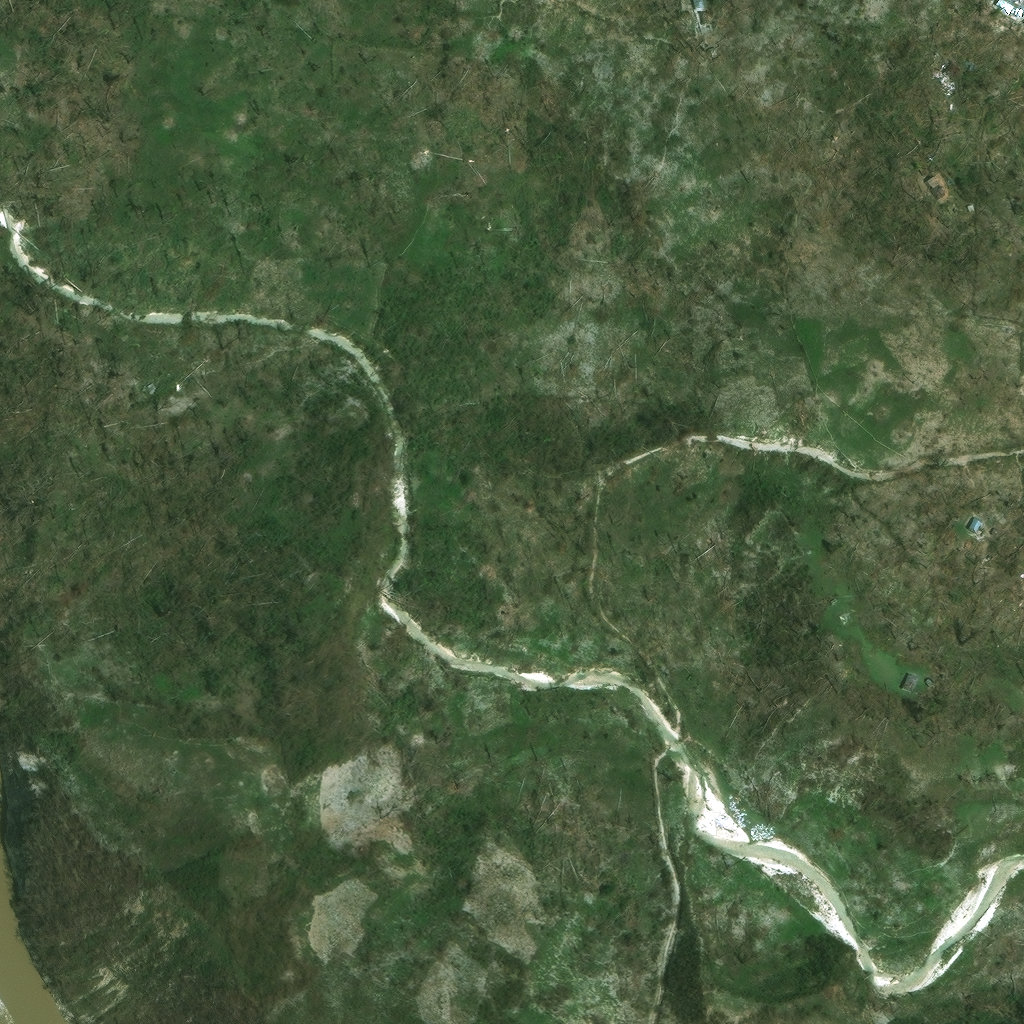destroyed: (600, 482, 616, 510), (840, 607, 859, 625)
major_damage: (930, 171, 949, 190)
minor_damage: (898, 669, 922, 695), (946, 57, 968, 78)
no_damage: (966, 515, 983, 532)
unclassified: (708, 3, 726, 18)
